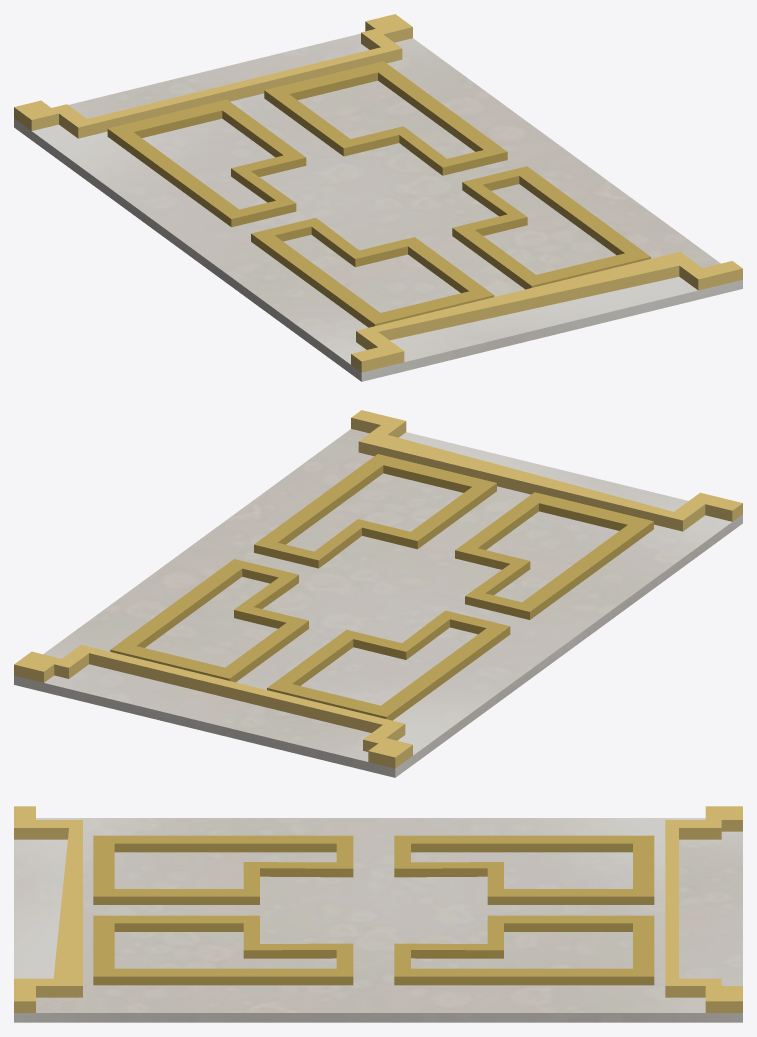
File: ceiling fbx.fbx
The picture shows the model from 3 angles, top to bottom: view 1: azimuth 30°, elevation 25°; view 2: azimuth 150°, elevation 25°; view 3: azimuth 270°, elevation 25°; orthographic projection. The views are drawn at different scales.
Parts seen in each view (by area): view 1: pCube1, pCube18, pCube17, pCube9, pCube16; view 2: pCube1, pCube16, pCube9, pCube17, pCube18; view 3: pCube1, pCube16, pCube18, pCube9, pCube17.
Boxes of the visible parts, x1,y1,x2,y2 form: pCube1: (14,14,742,381); pCube18: (264,61,507,175); pCube17: (107,99,306,227); pCube9: (251,218,494,327); pCube16: (452,166,650,289); pCube1: (14,410,742,777); pCube16: (254,454,496,568); pCube9: (455,492,653,619); pCube17: (267,610,510,720); pCube18: (110,559,308,682); pCube1: (14,806,742,1022); pCube16: (93,915,353,985); pCube18: (394,915,654,985); pCube9: (93,835,353,904); pCube17: (394,835,654,904).
Bounding box in the file's own units: 14.9 × 0.7598 × 23.53.
Materials: 1 (1 with a texture image).
